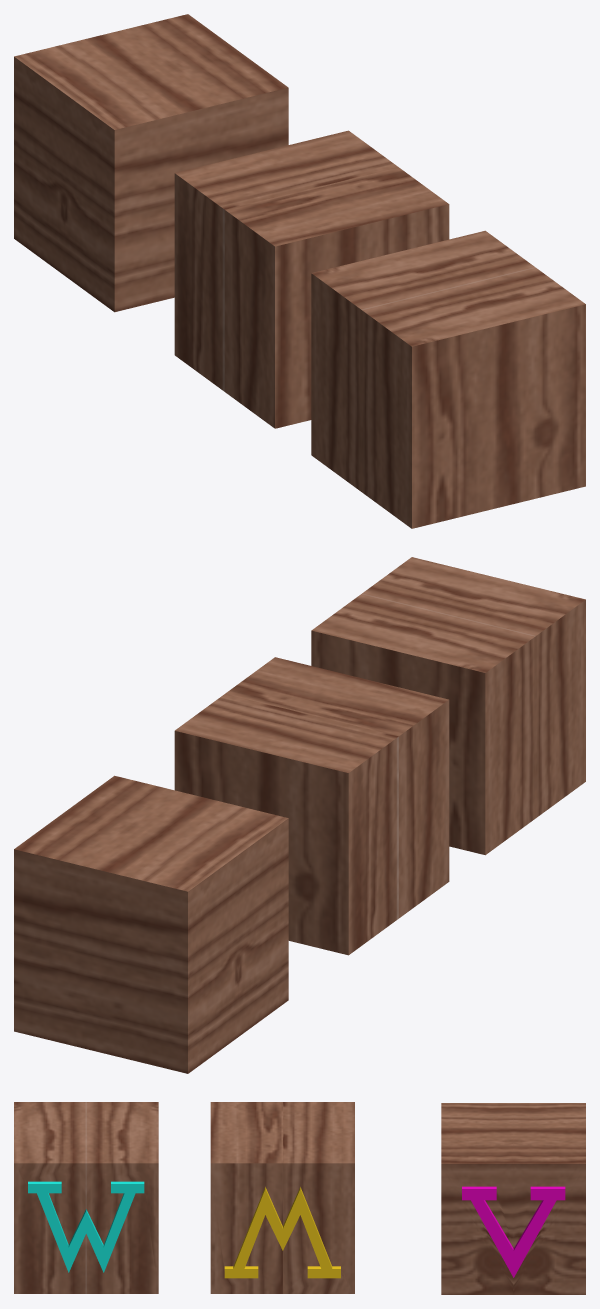
Rendered from cubos_brinquedo.fbx.
3 renders of one model, top to bottom at view 1: azimuth 30°, elevation 25°; view 2: azimuth 150°, elevation 25°; view 3: azimuth 270°, elevation 25°, orthographic. The views are drawn at different scales.
Visible parts, largest first — view 1: CUBOW, CUBOV, CUBOM; view 2: CUBOV, CUBOM, CUBOW; view 3: CUBOV, CUBOM, CUBOW.
Boxes of the visible parts, x1,y1,x2,y2 form: CUBOW: (311, 230, 585, 528); CUBOV: (14, 14, 288, 312); CUBOM: (174, 130, 449, 428); CUBOV: (14, 775, 288, 1073); CUBOM: (174, 657, 449, 955); CUBOW: (311, 557, 585, 855); CUBOV: (441, 1103, 585, 1294); CUBOM: (210, 1102, 354, 1293); CUBOW: (14, 1102, 158, 1293).
Size of the model in its own units: 113 by 109 by 428.
Materials: 4 (1 with a texture image).
